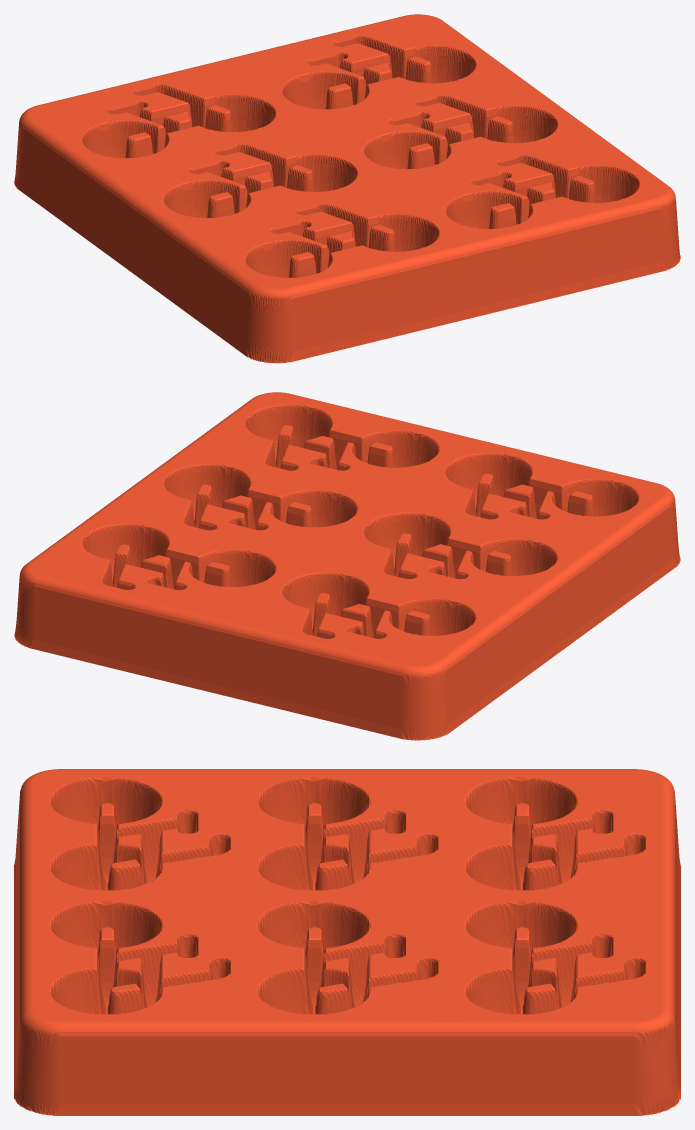
The model's file is mold.glb.
The picture shows the model from 3 angles, top to bottom: view 1: azimuth 30°, elevation 25°; view 2: azimuth 150°, elevation 25°; view 3: azimuth 270°, elevation 25°; orthographic projection. The views are drawn at different scales.
Visible parts, largest first — view 1: geometry_0; view 2: geometry_0; view 3: geometry_0.
Boxes of the visible parts, x1,y1,x2,y2 form: geometry_0: [14, 14, 680, 363]; geometry_0: [14, 392, 680, 740]; geometry_0: [14, 769, 680, 1115].
Size of the model in its own units: 0.1222 by 0.0185 by 0.1291.
